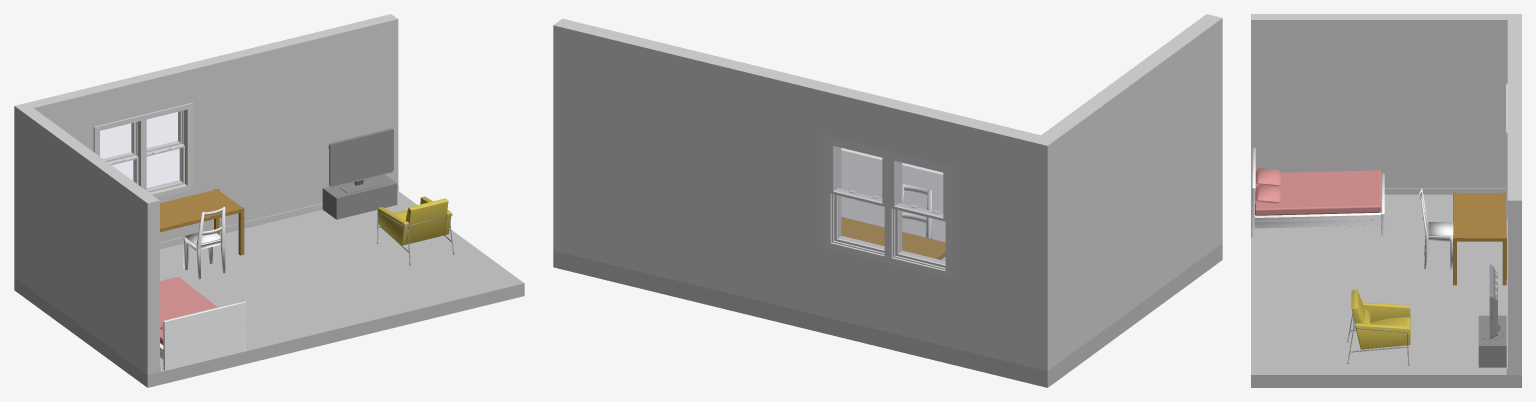
The model's file is L12_W20_furniture3_circulation1.glb.
3 views of the same model, side by side, from view 1: azimuth 30°, elevation 25°; view 2: azimuth 150°, elevation 25°; view 3: azimuth 270°, elevation 25° (orthographic). The views are drawn at different scales.
Bounding box in the file's own units: 248 × 116 × 152.
